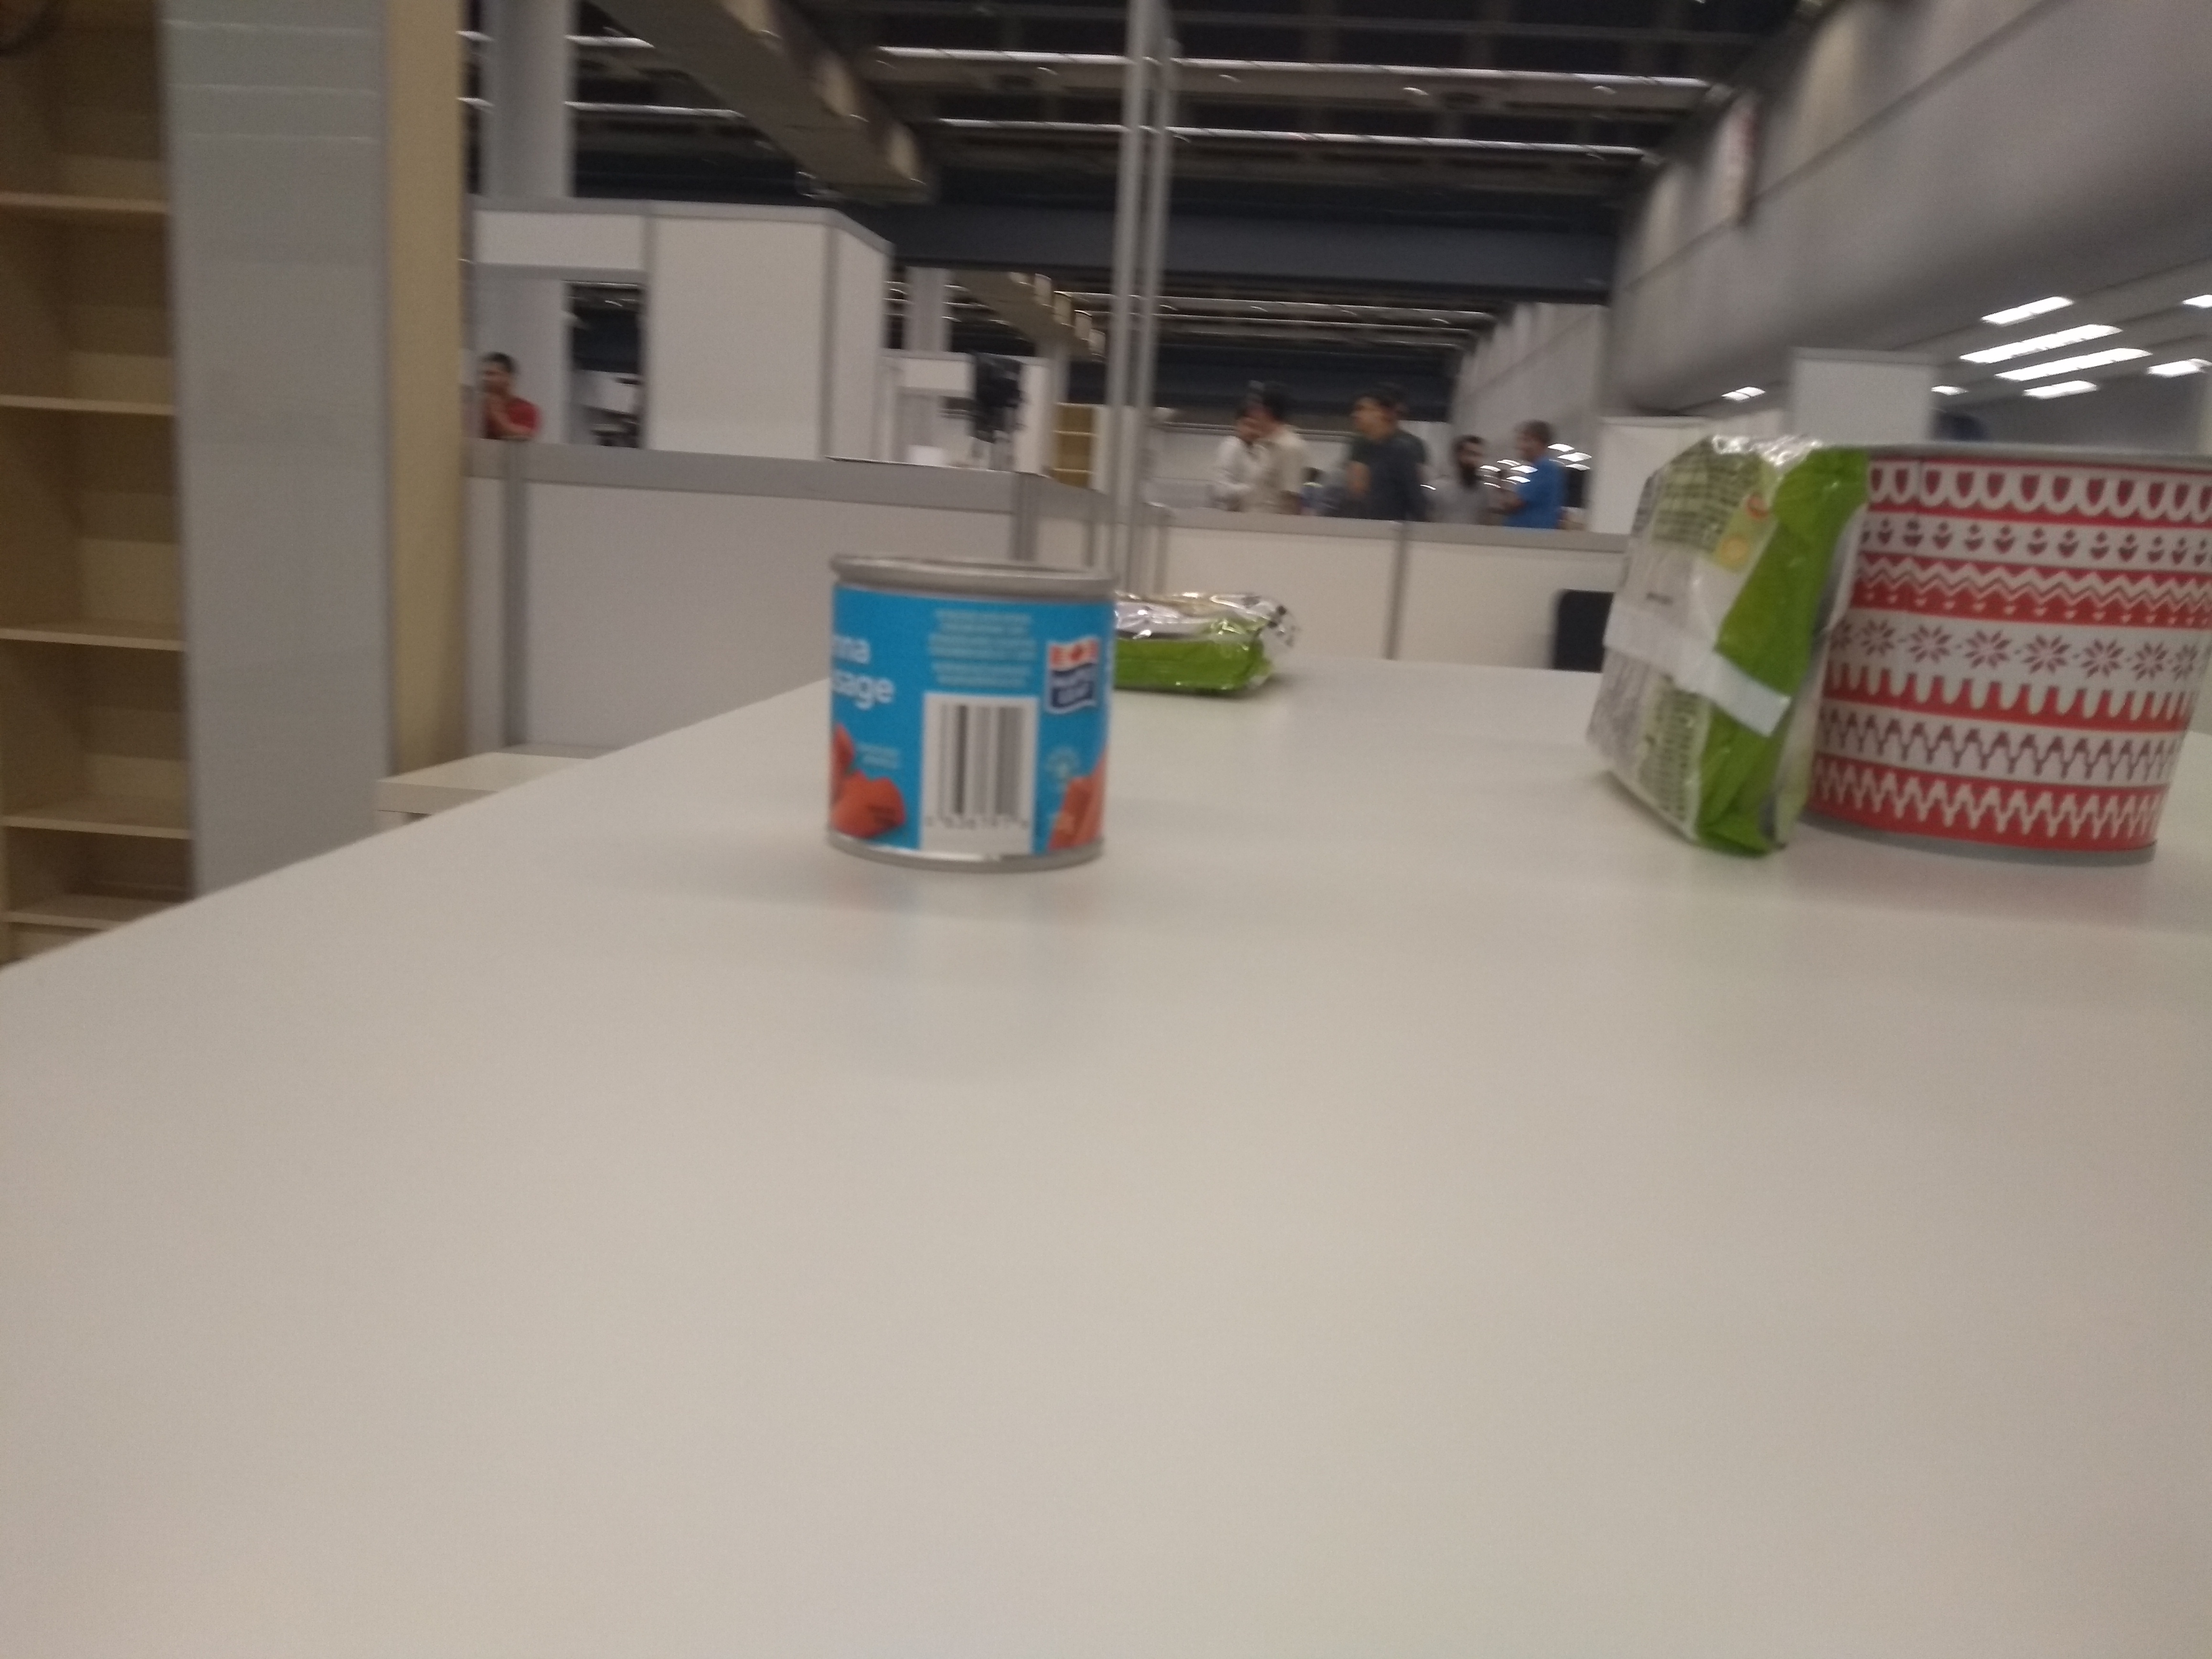noodles: (1561, 425, 1881, 873)
sausages: (813, 542, 1116, 887)
